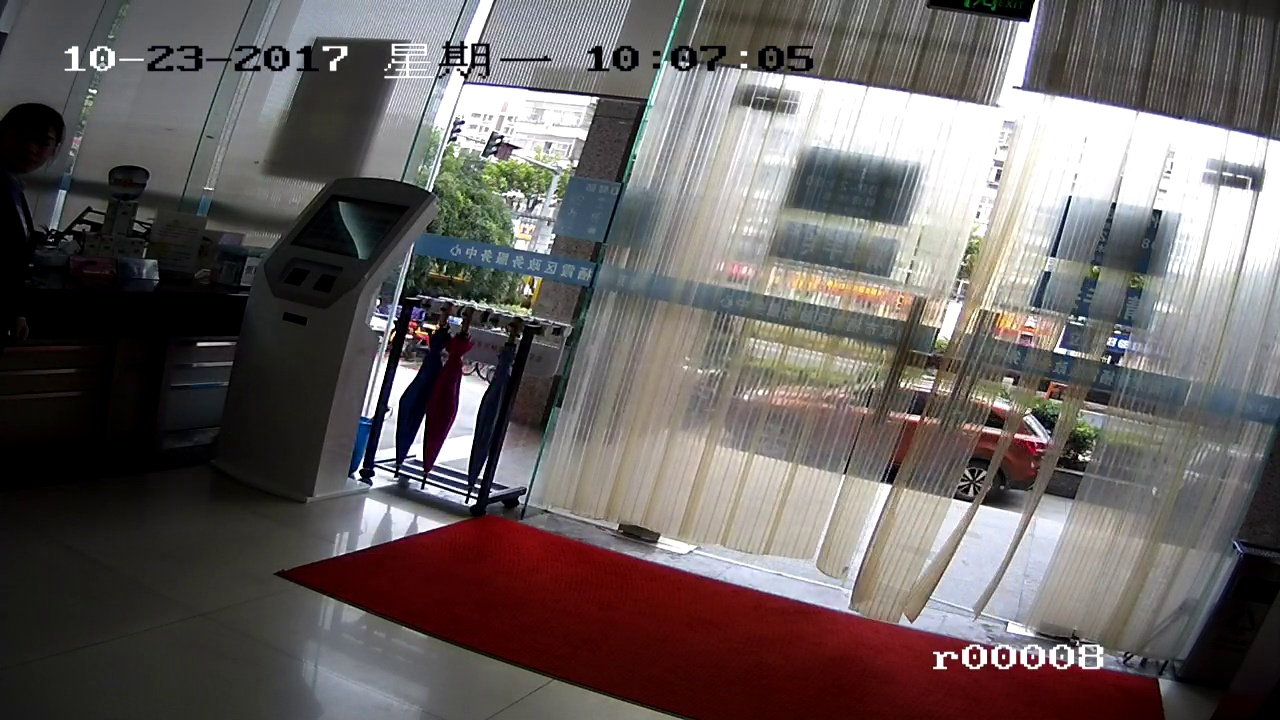monitor: (312, 178, 381, 249)
